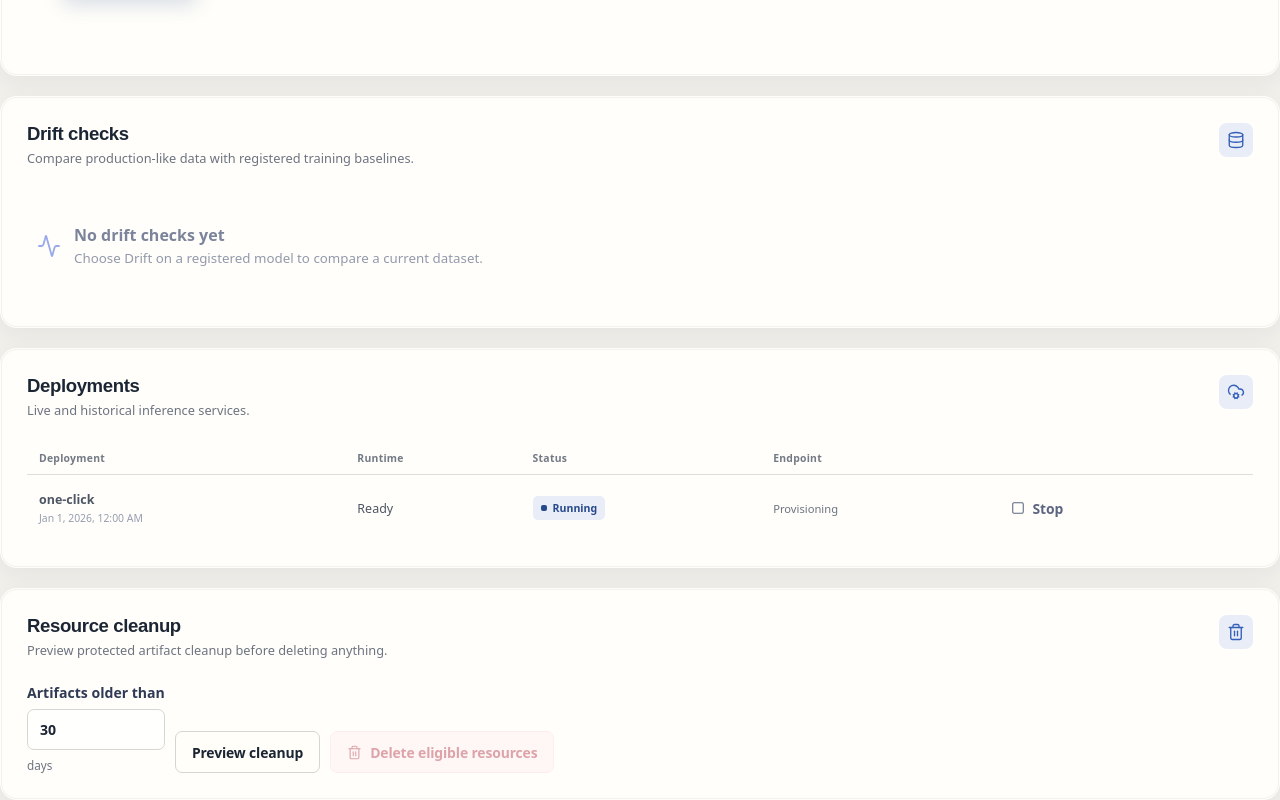
it: core workflow integrations › previews cleanup before enabling destructive execution
The width and height of the screenshot is (1280, 800).
(page scrolled)
Expected: the heading "Resource cleanup" is shown, x1=27 y1=615 x2=181 y2=636
Expected: the text "Provisioning" is shown, x1=773 y1=501 x2=838 y2=516
Click the button "Preview cleanup": click(248, 752) x1=175 y1=731 x2=320 y2=773
(page scrolled)
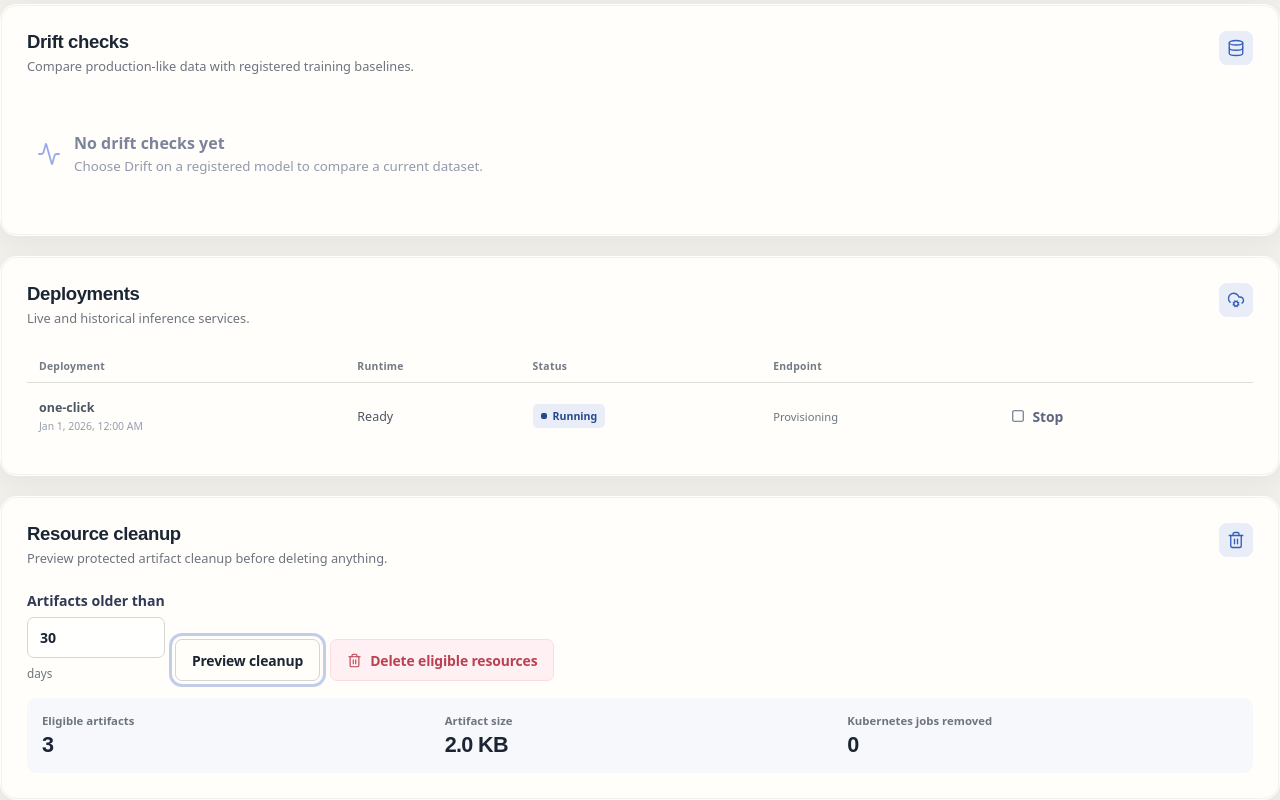
Expected: the button "Delete eligible resources" is enabled, x1=330 y1=639 x2=554 y2=681
Expected: the text "3" is shown, x1=42 y1=732 x2=53 y2=757
